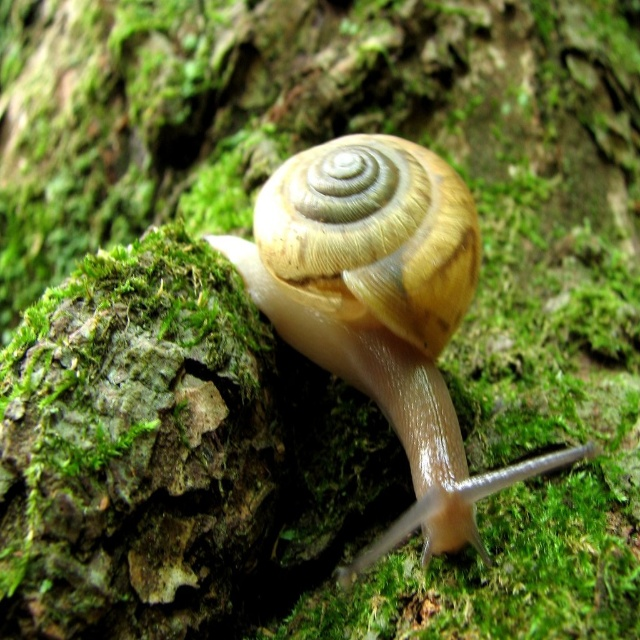Snail: (198, 132, 598, 591)
